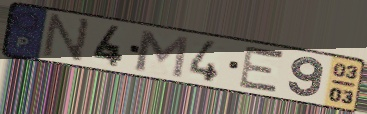4: (186, 39, 222, 85), (90, 24, 125, 68)
9: (285, 55, 327, 99)
E: (235, 43, 287, 97)
M: (133, 27, 192, 80)
N: (39, 12, 94, 66)
